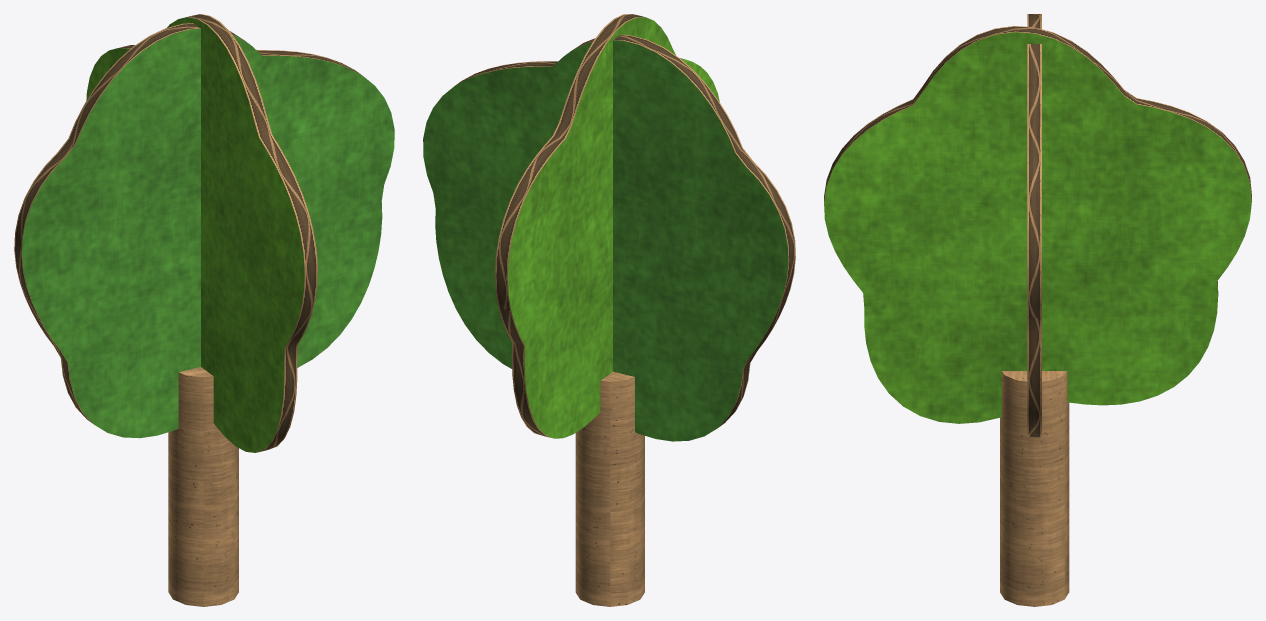
File: tree_round_small_01.gltf
3 views of the same model, side by side, from view 1: azimuth 30°, elevation 25°; view 2: azimuth 150°, elevation 25°; view 3: azimuth 270°, elevation 25° (orthographic). The views are drawn at different scales.
Visible parts, largest first — view 1: tree_round_small_01; view 2: tree_round_small_01; view 3: tree_round_small_01.
Part boxes in pixels (x1,y1,x2,y2): tree_round_small_01: (14, 14, 394, 606); tree_round_small_01: (423, 14, 795, 606); tree_round_small_01: (824, 14, 1251, 606).
Size of the model in its own units: 0.8497 by 1.25 by 0.8641.
Materials: 4 (4 with a texture image).
